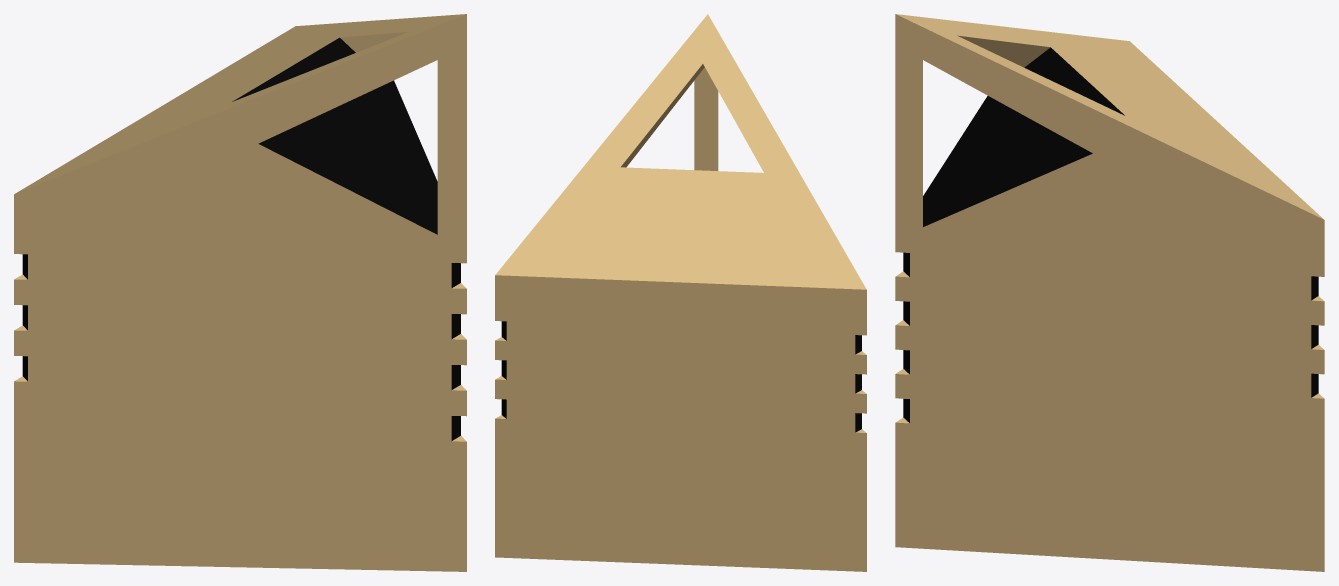
The model's file is CLA.gltf.
The picture shows the model from 3 angles, left to right: view 1: azimuth 30°, elevation 25°; view 2: azimuth 150°, elevation 25°; view 3: azimuth 270°, elevation 25°; orthographic projection. The views are drawn at different scales.
Visible parts, largest first — view 1: CLATest; view 2: CLATest; view 3: CLATest.
Part boxes in pixels (bbox=[...]): CLATest: bbox=[14, 14, 466, 571]; CLATest: bbox=[495, 14, 866, 571]; CLATest: bbox=[895, 14, 1324, 571].
Bounding box in the file's own units: 1.44 × 2 × 1.46.
